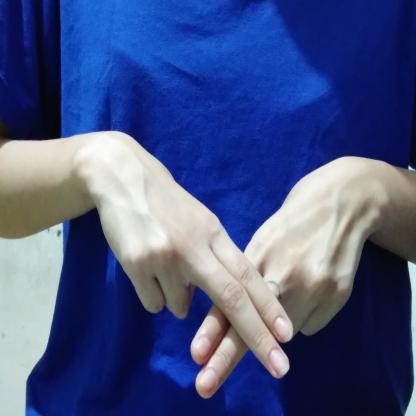father: (60, 129, 392, 410)
